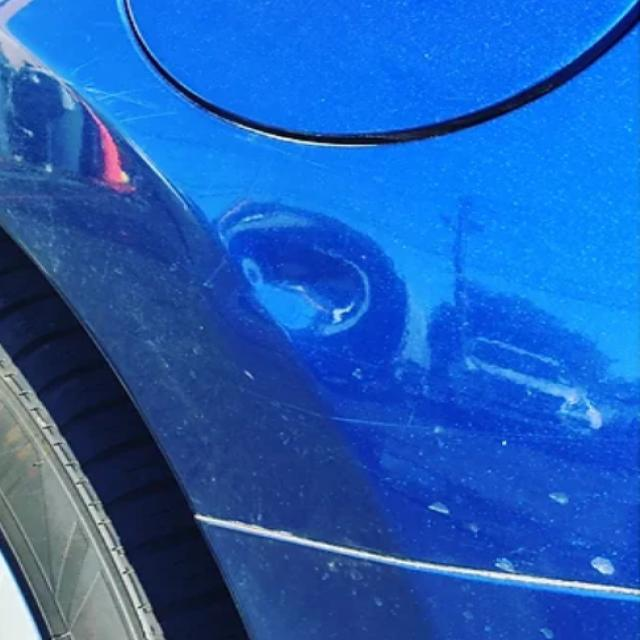dents: (188, 170, 402, 348)
